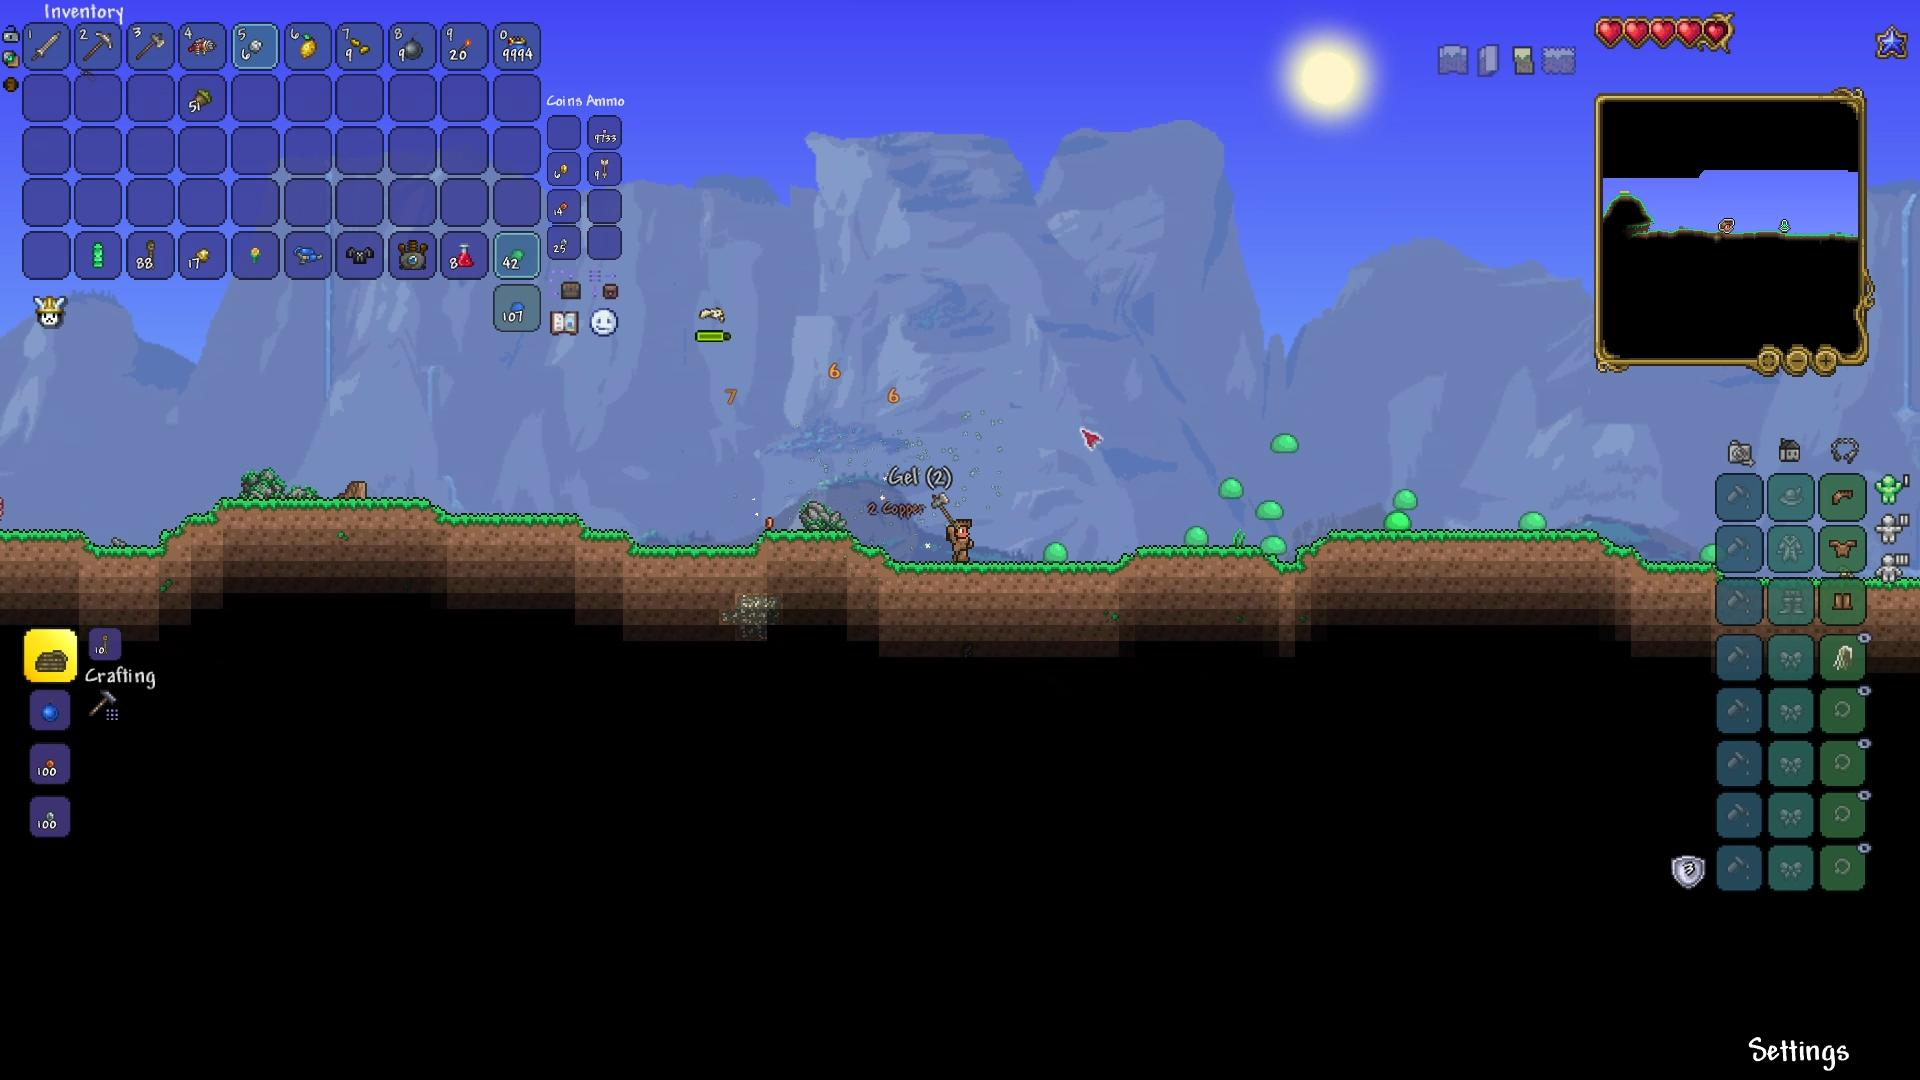breastplate: (1829, 537, 1859, 558)
helmet: (1828, 483, 1858, 510)
legs: (1832, 588, 1855, 616)
slime: (1378, 510, 1422, 537), (1390, 480, 1424, 509), (1253, 530, 1291, 554), (1180, 524, 1213, 549), (1696, 537, 1724, 566), (1253, 495, 1284, 520), (1518, 508, 1548, 533), (1042, 541, 1073, 564), (1269, 431, 1300, 455), (1215, 477, 1246, 500)
